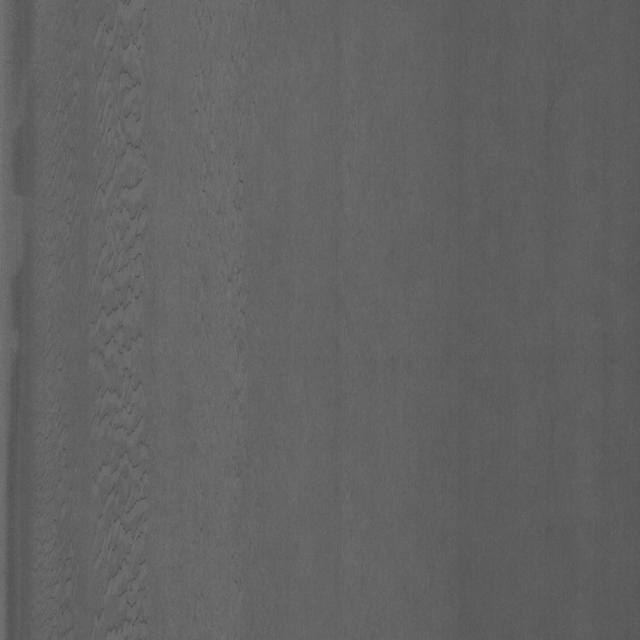inclusion: (74, 36, 164, 581)
